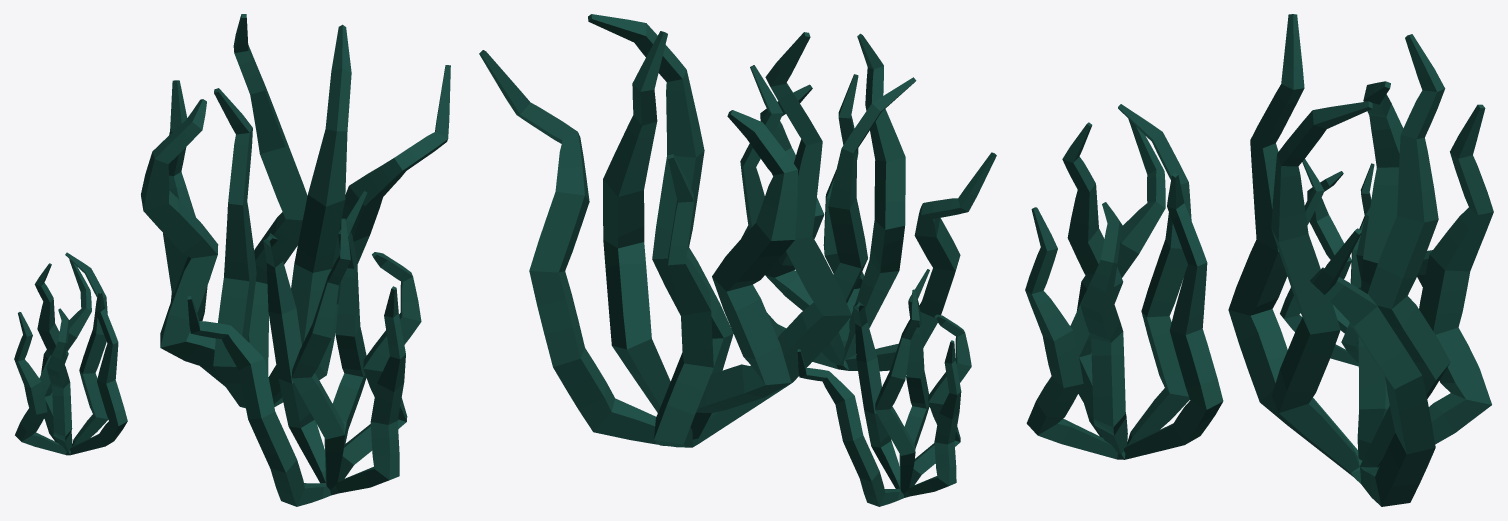
Rendered from AlgaMIX.glb.
3 views of the same model, side by side, from view 1: azimuth 30°, elevation 25°; view 2: azimuth 150°, elevation 25°; view 3: azimuth 270°, elevation 25° (orthographic). The views are drawn at different scales.
Parts seen in each view (by area): view 1: Vert, Vert.002, Vert.001; view 2: Vert, Vert.002, Vert.001; view 3: Vert, Vert.002, Vert.001.
Part boxes in pixels (bbox=[...]): Vert: bbox=[141, 14, 450, 408]; Vert.002: bbox=[187, 191, 421, 506]; Vert.001: bbox=[14, 252, 127, 455]; Vert: bbox=[479, 14, 851, 447]; Vert.002: bbox=[740, 33, 996, 371]; Vert.001: bbox=[797, 269, 971, 506]; Vert: bbox=[1228, 14, 1493, 506]; Vert.002: bbox=[1025, 104, 1223, 459]; Vert.001: bbox=[1280, 159, 1432, 366].
Bounding box in the file's own units: 1.6 × 1.36 × 1.29.
